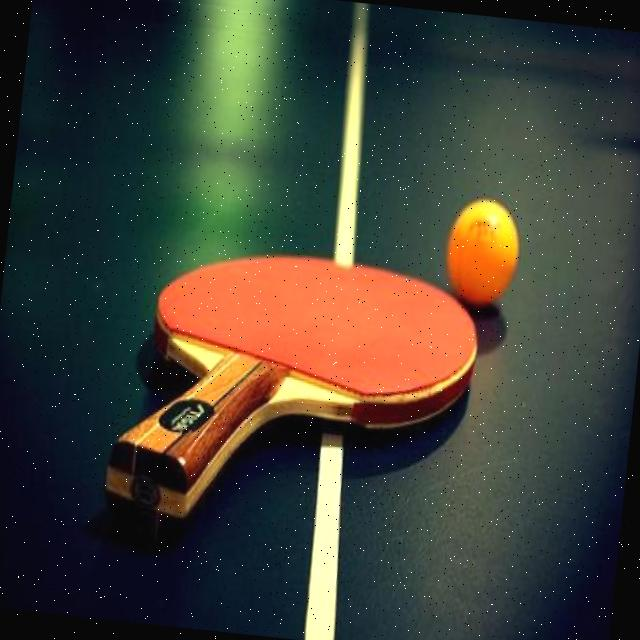ping-pong-ball: (440, 192, 526, 313)
